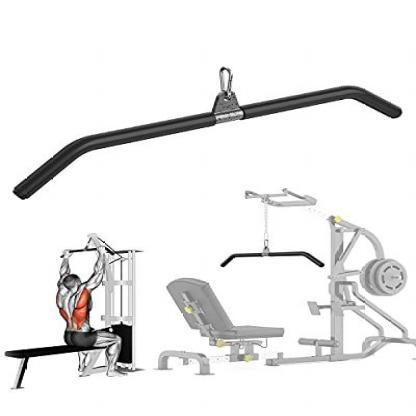Lat Pull Down: (0, 230, 156, 392)
